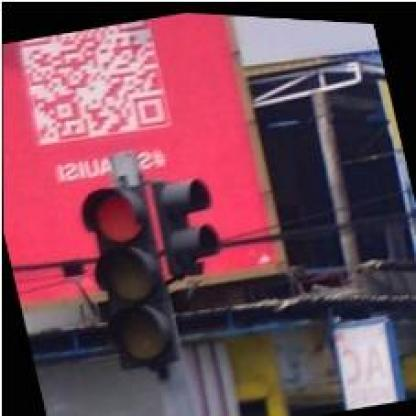red: (75, 176, 185, 374)
